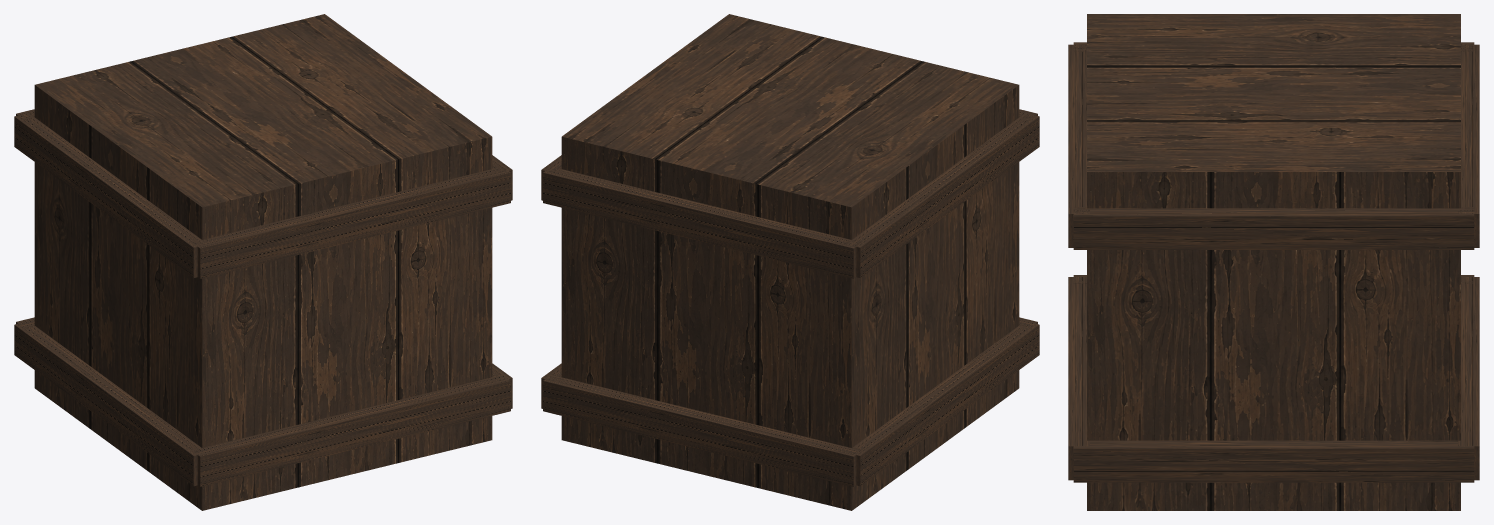
The model's file is wood_crate.glb.
3 views of the same model, side by side, from view 1: azimuth 30°, elevation 25°; view 2: azimuth 150°, elevation 25°; view 3: azimuth 270°, elevation 25° (orthographic). The views are drawn at different scales.
Visible parts, largest first — view 1: CandidateMesh; view 2: CandidateMesh; view 3: CandidateMesh.
Part boxes in pixels (x1,y1,x2,y2): CandidateMesh: (14, 14, 512, 510); CandidateMesh: (541, 14, 1039, 510); CandidateMesh: (1068, 14, 1479, 510).
Size of the model in its own units: 0.77 by 0.7 by 0.77.
1 material, 1 textured.
